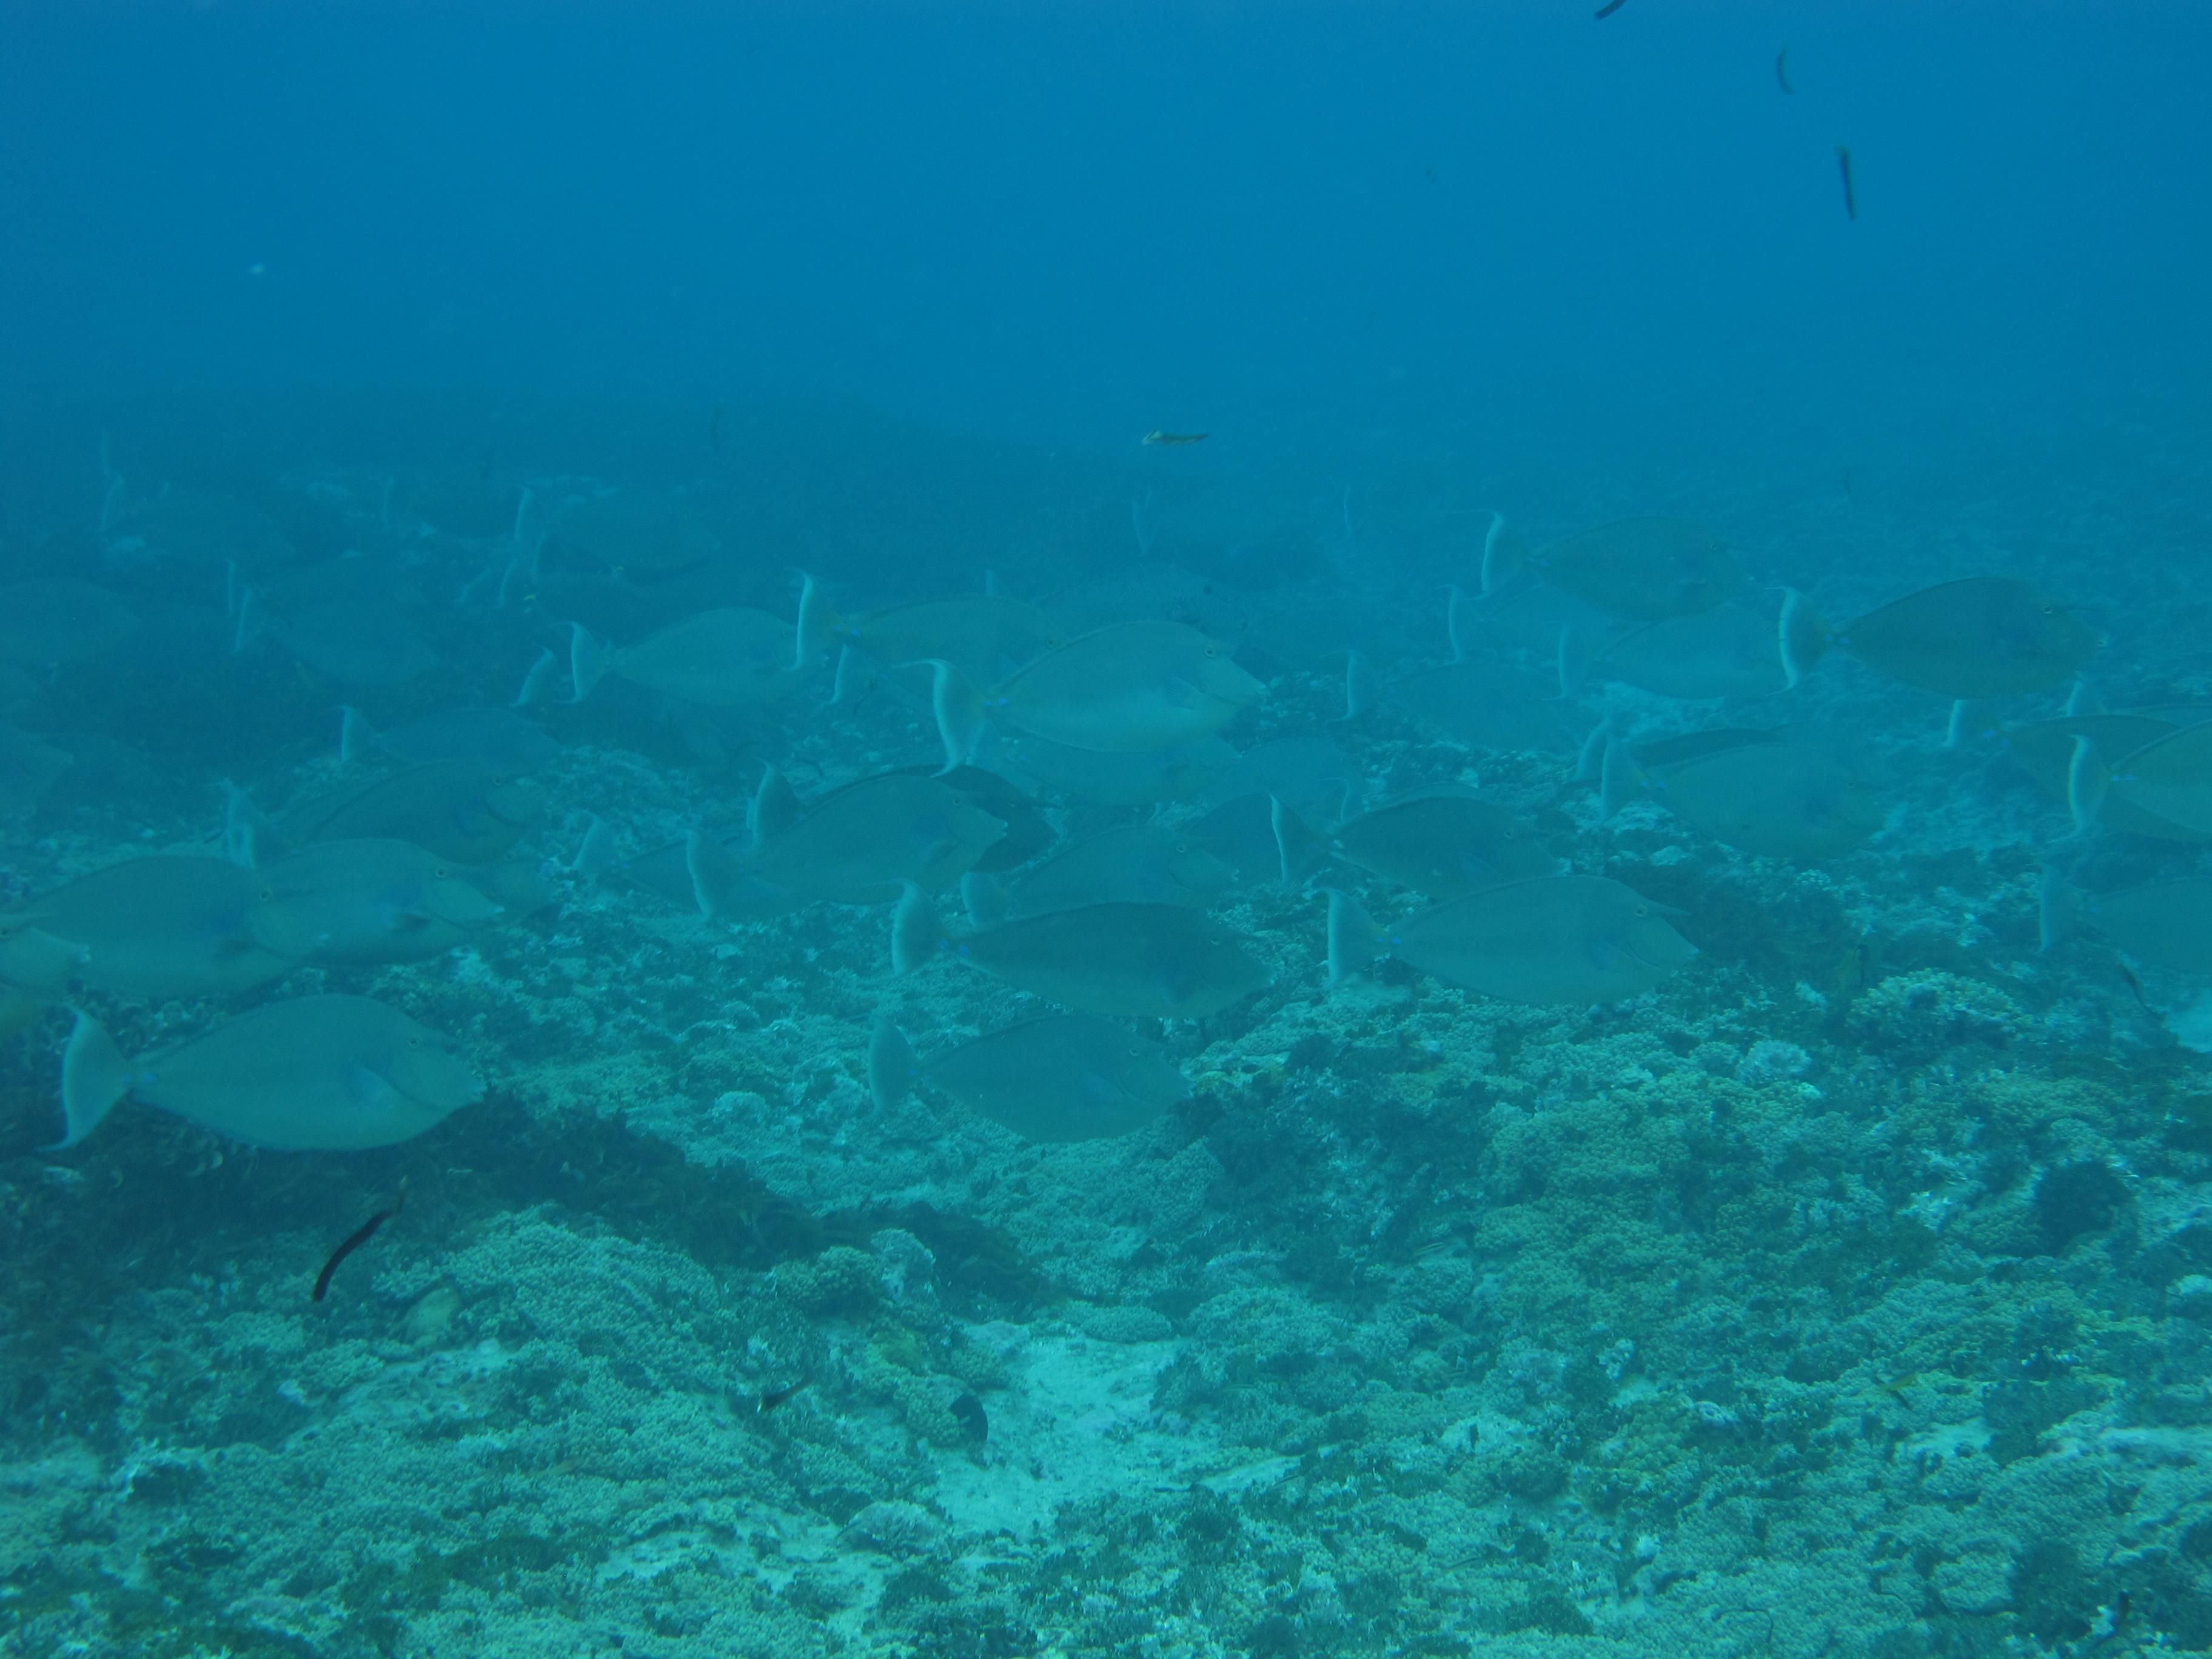Naso unicornis: (37, 985, 524, 1208), (796, 995, 1244, 1173), (1305, 857, 1730, 1040), (909, 615, 1266, 786), (653, 767, 1017, 920), (1756, 568, 2121, 711), (1601, 723, 1897, 887), (0, 863, 329, 997), (1468, 497, 1752, 634), (529, 606, 864, 716), (1325, 640, 1585, 772), (214, 579, 456, 704), (502, 477, 730, 579)
